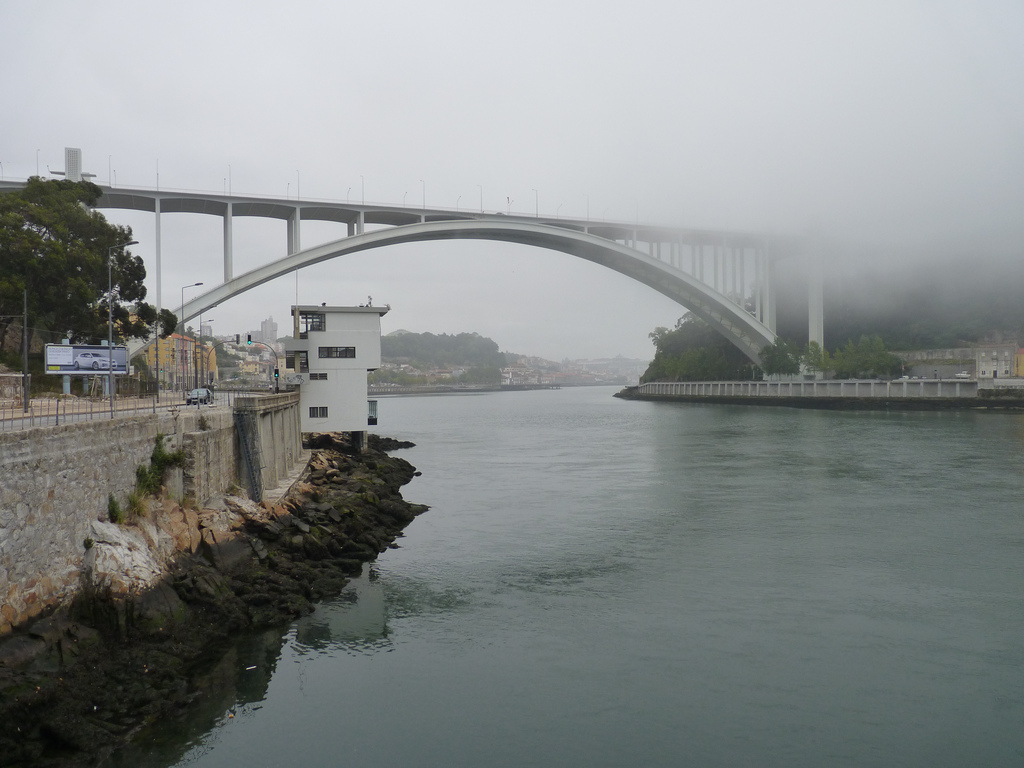arrabida: (0, 146, 922, 375)
